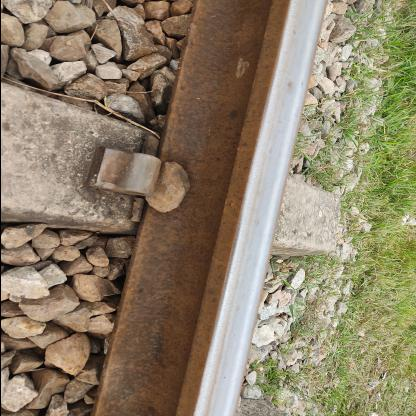Defective 1: (69, 130, 179, 230)
